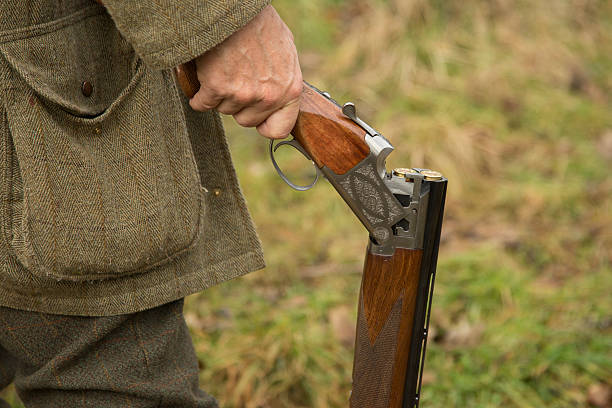shotgun: (292, 87, 457, 408)
